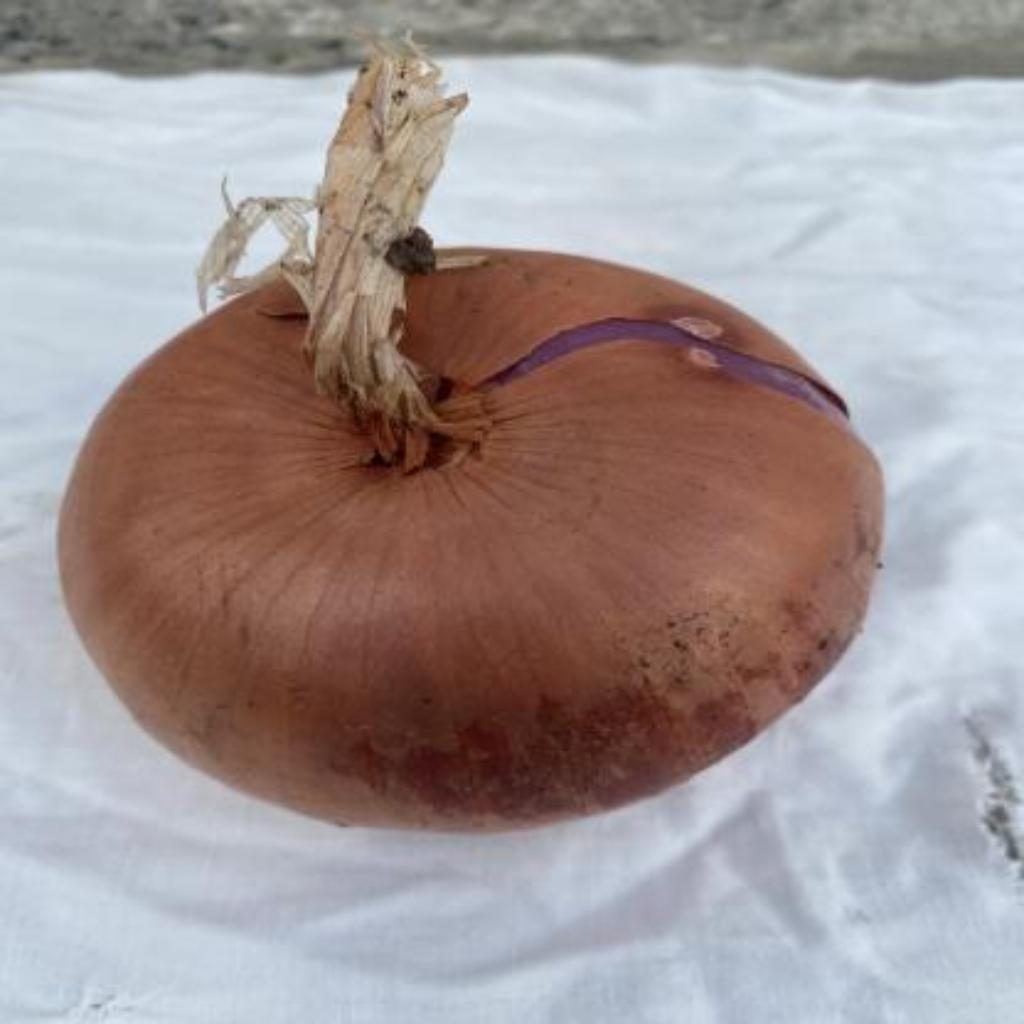Onion: (59, 44, 886, 831)
